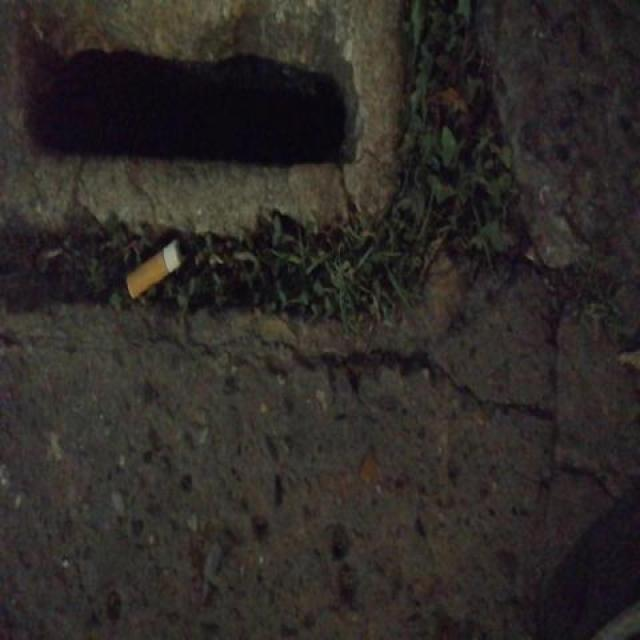non-organic waste: (123, 236, 188, 304)
